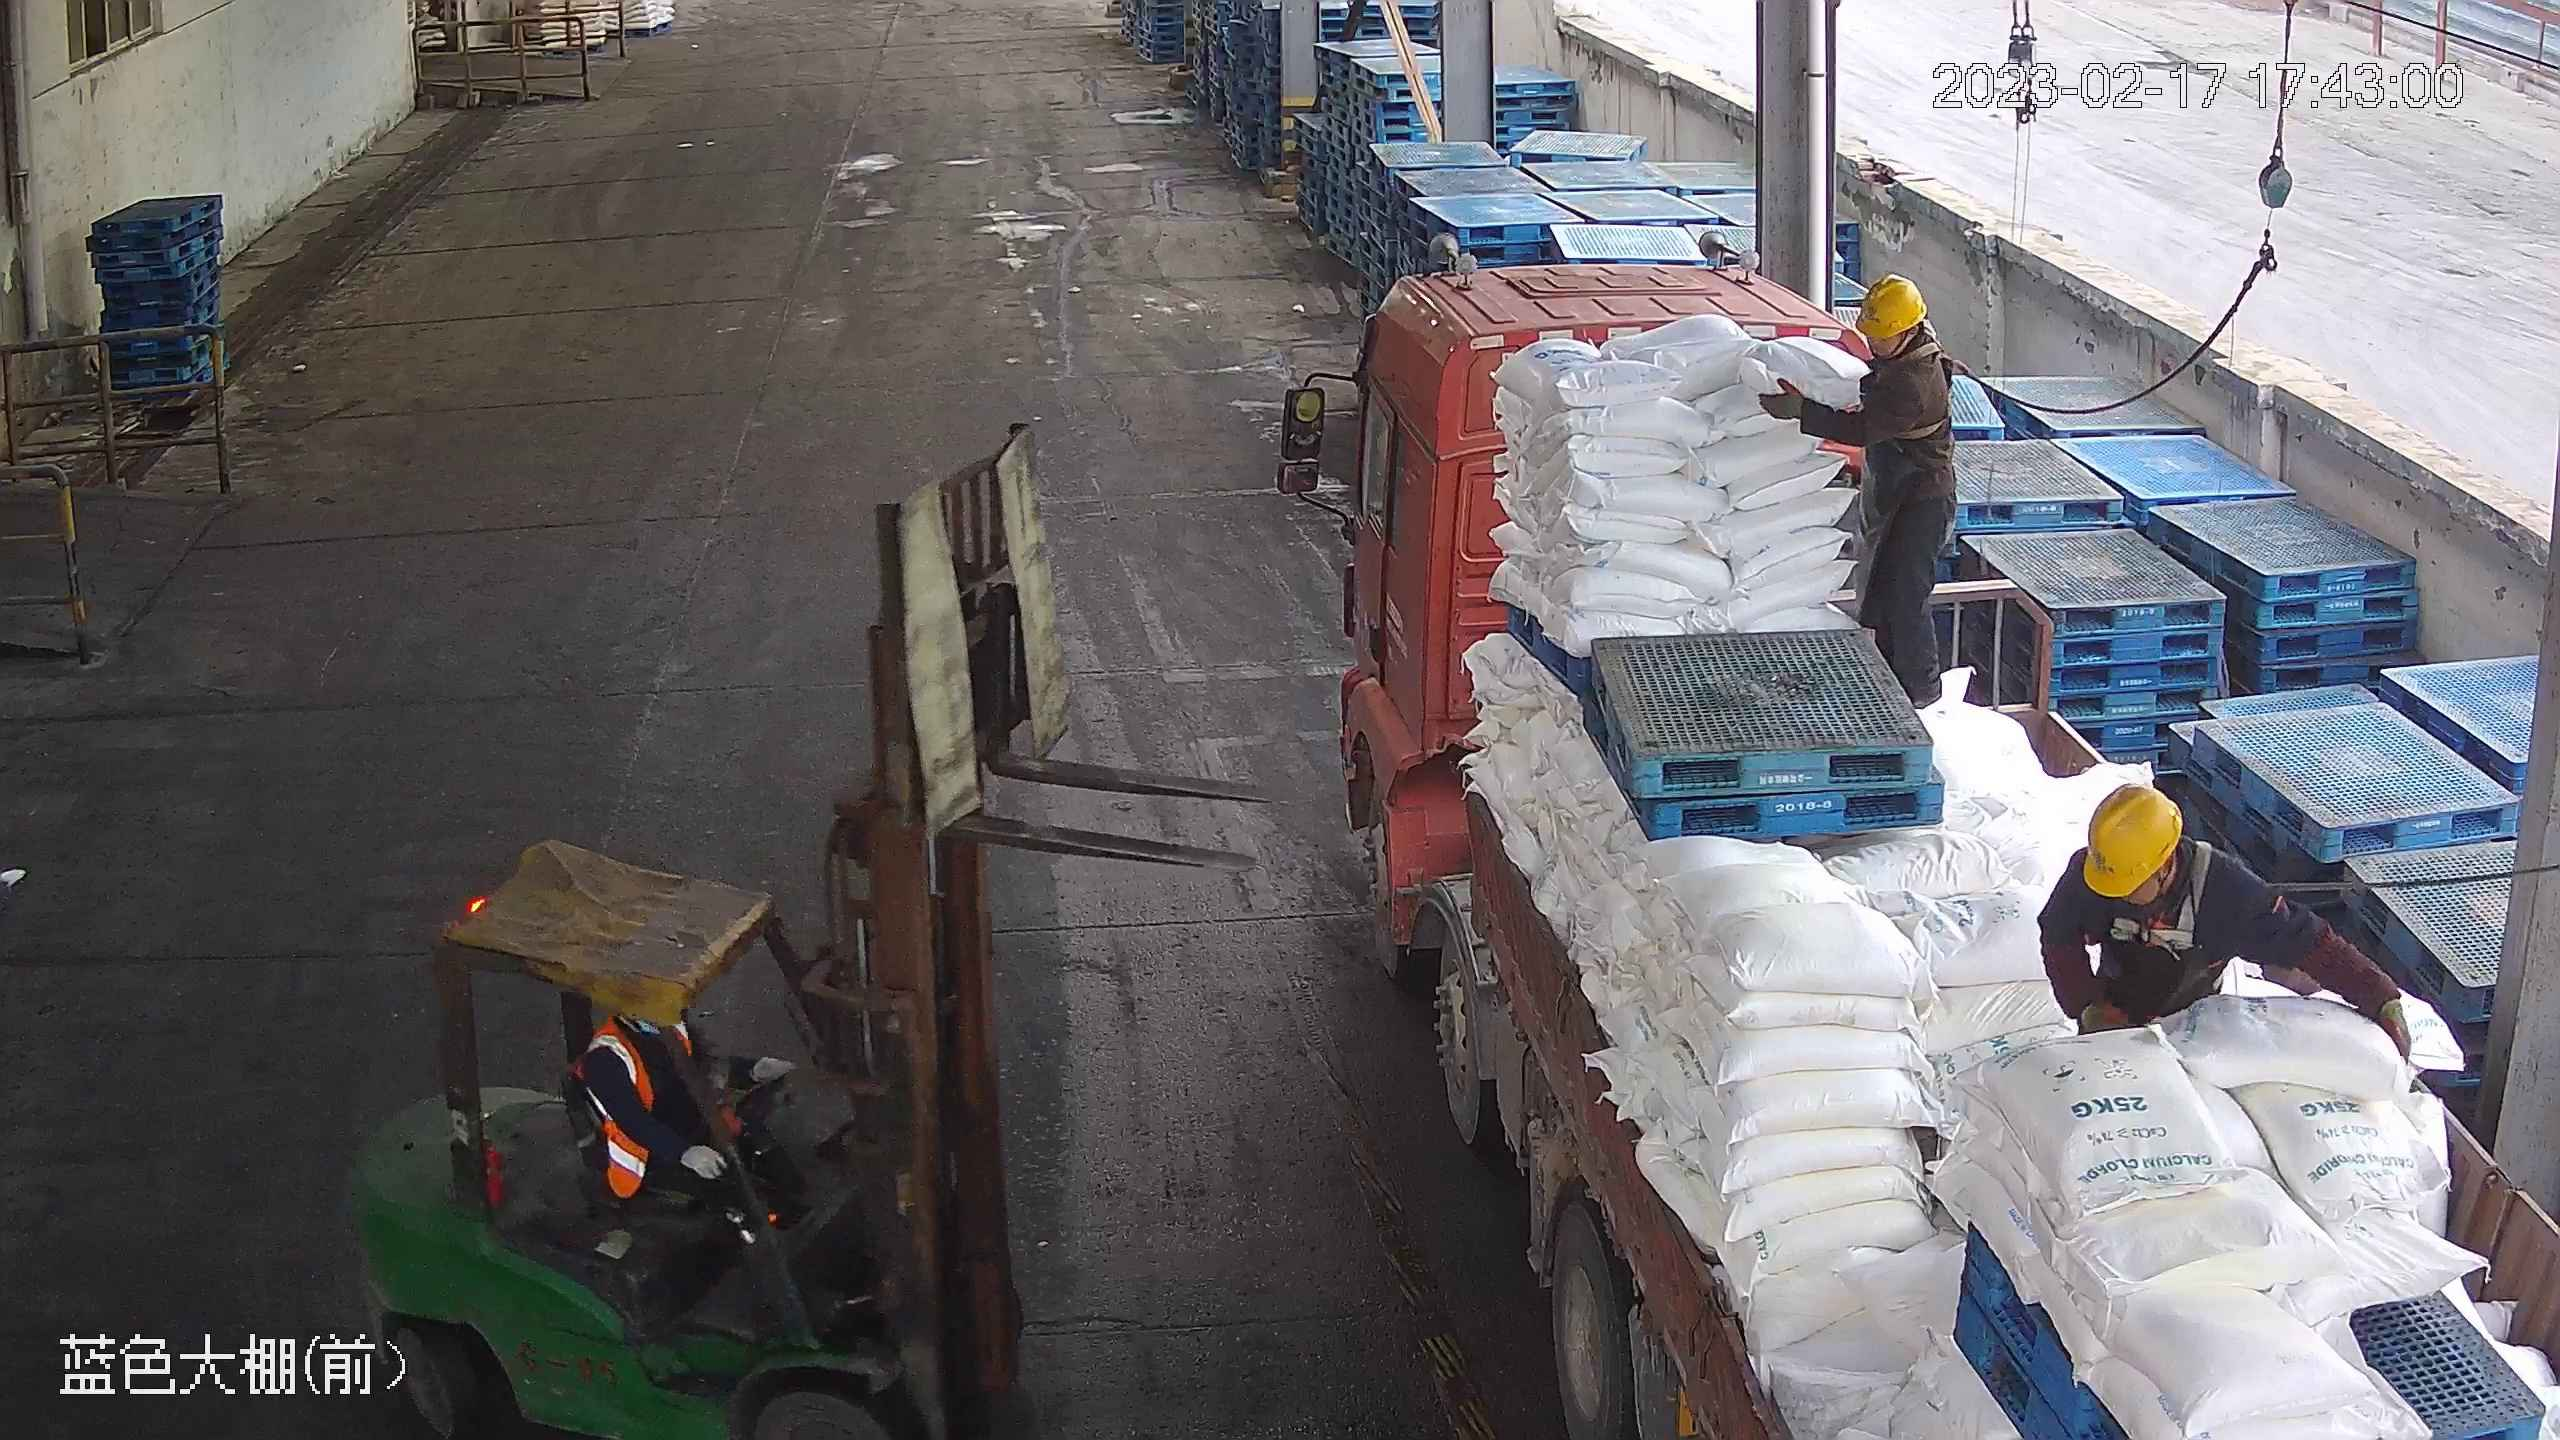belt: (2100, 835, 2217, 966), (1871, 344, 1971, 445)
head: (2037, 781, 2254, 974)
helmet: (2081, 786, 2186, 900), (1854, 274, 1930, 340)
people: (1756, 274, 1980, 725), (573, 1000, 810, 1279)
truck: (1273, 257, 2560, 1440)
